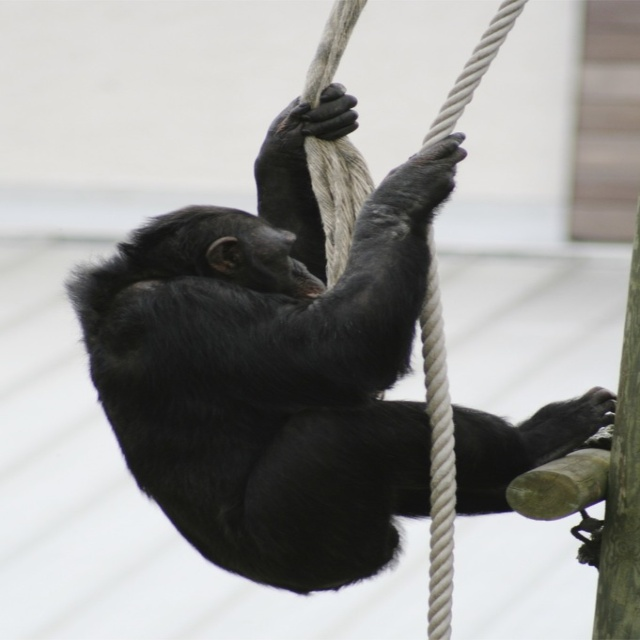Monkey: (65, 84, 615, 594)
